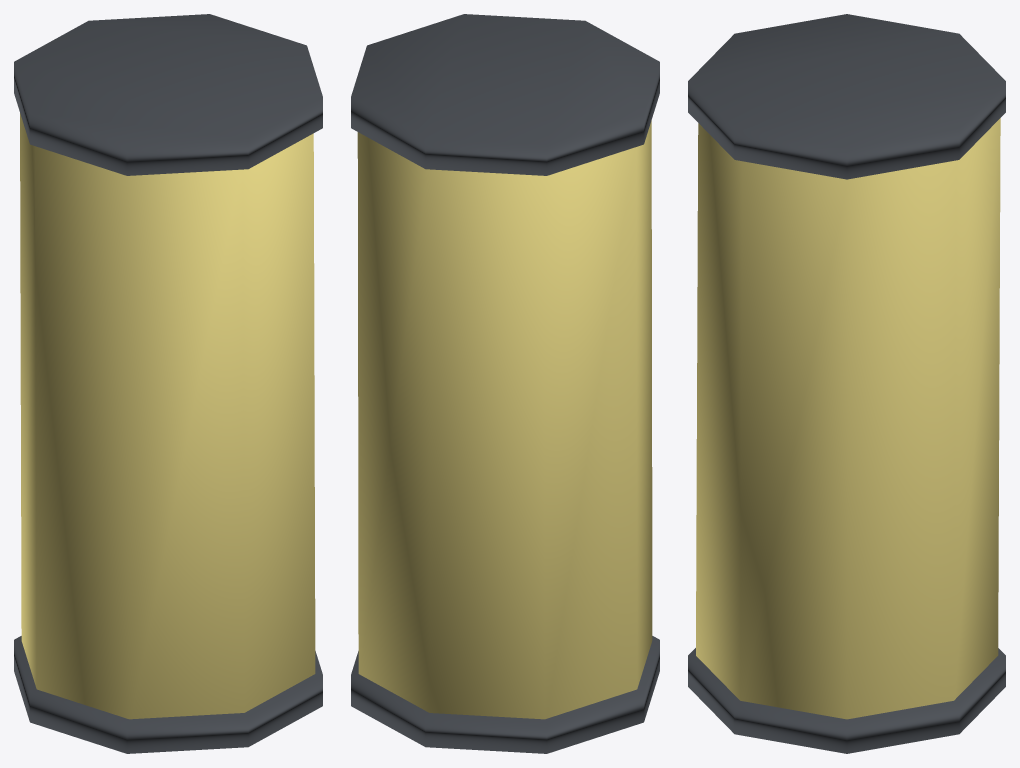
Rendered from MainGene_Yellow.fbx.
The picture shows the model from 3 angles, left to right: view 1: azimuth 30°, elevation 25°; view 2: azimuth 150°, elevation 25°; view 3: azimuth 270°, elevation 25°; orthographic projection.
Visible parts, largest first — view 1: pCylinder1, pCylinder2, pCylinder3; view 2: pCylinder1, pCylinder2, pCylinder3; view 3: pCylinder1, pCylinder2, pCylinder3.
Boxes of the visible parts, left/top/right/bottom form: pCylinder1: left=20, top=113, right=315, bottom=719; pCylinder2: left=14, top=14, right=322, bottom=175; pCylinder3: left=14, top=636, right=322, bottom=753; pCylinder1: left=357, top=120, right=652, bottom=719; pCylinder2: left=351, top=14, right=659, bottom=175; pCylinder3: left=351, top=636, right=659, bottom=753; pCylinder1: left=696, top=118, right=1000, bottom=719; pCylinder2: left=688, top=14, right=1005, bottom=179; pCylinder3: left=688, top=648, right=1005, bottom=753.
Size of the model in its own units: 1.16 by 2.44 by 1.16.
